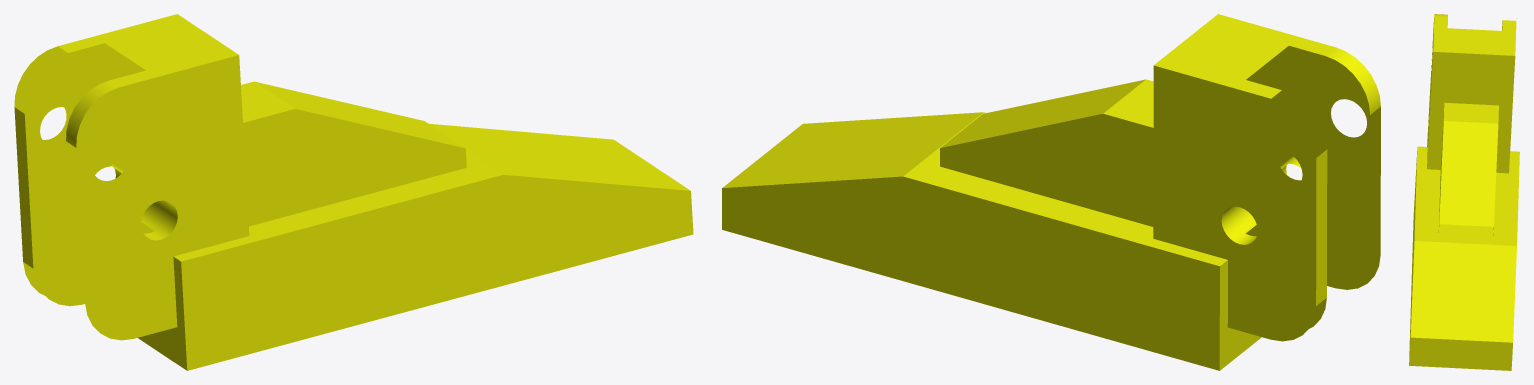
The model's file is body_17.obj.
The picture shows the model from 3 angles, left to right: view 1: azimuth 30°, elevation 25°; view 2: azimuth 150°, elevation 25°; view 3: azimuth 270°, elevation 25°; orthographic projection. The views are drawn at different scales.
Visible parts, largest first — view 1: Body_21; view 2: Body_21; view 3: Body_21.
Boxes of the visible parts, x1,y1,x2,y2 form: Body_21: (14, 14, 693, 370); Body_21: (722, 14, 1380, 370); Body_21: (1409, 14, 1519, 370).
Size of the model in its own units: 0.0657 by 0.0309 by 0.0162.
